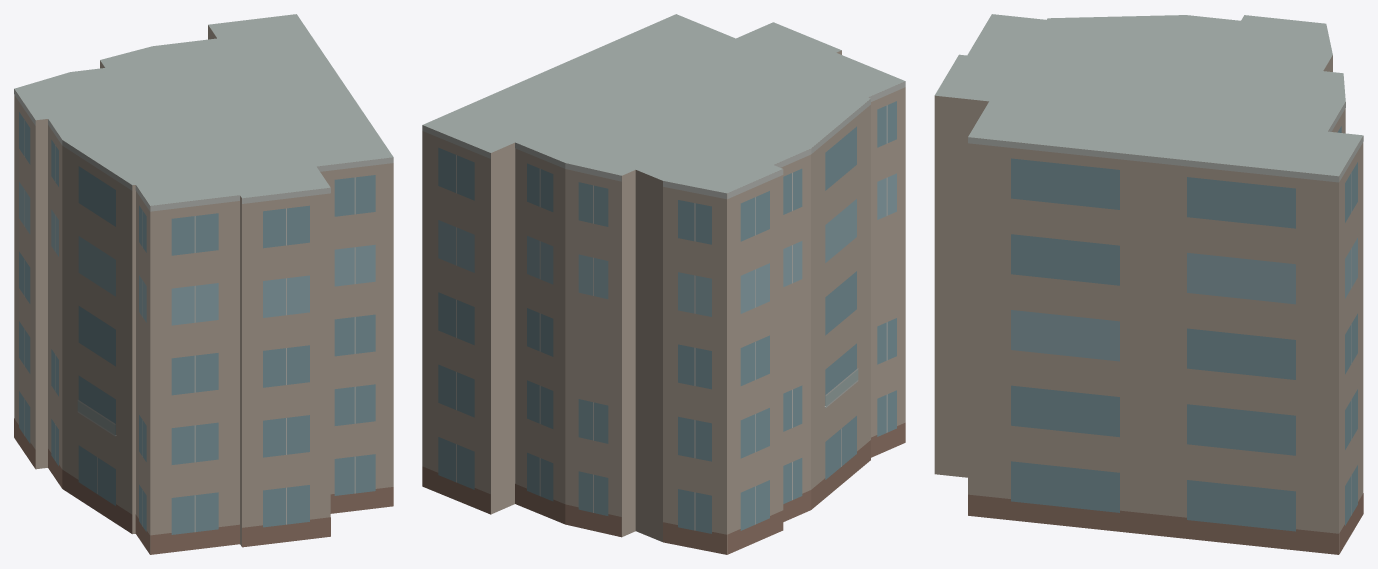
Rendered from survey-upis-32653774.glb.
The picture shows the model from 3 angles, left to right: view 1: azimuth 30°, elevation 25°; view 2: azimuth 150°, elevation 25°; view 3: azimuth 270°, elevation 25°; orthographic projection. The views are drawn at different scales.
Visible parts, largest first — view 1: survey-upis-32653774.tmp; view 2: survey-upis-32653774.tmp; view 3: survey-upis-32653774.tmp.
Part boxes in pixels (bbox=[...]): survey-upis-32653774.tmp: bbox=[14, 14, 393, 554]; survey-upis-32653774.tmp: bbox=[422, 14, 905, 554]; survey-upis-32653774.tmp: bbox=[934, 14, 1363, 554].
Size of the model in its own units: 13.66 by 14.85 by 15.26.
